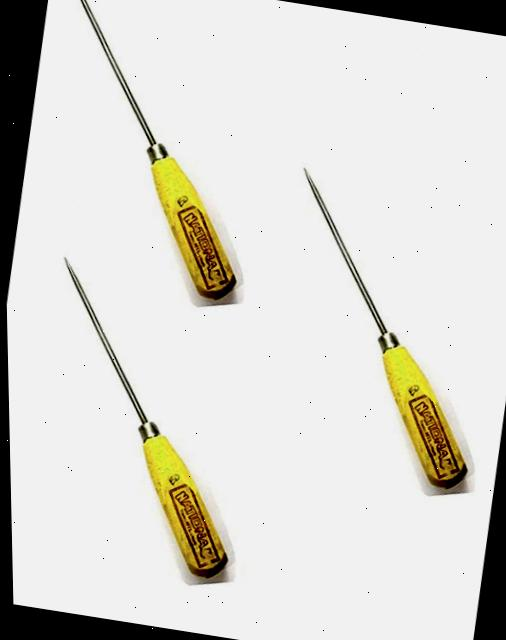ice pick: (15, 256, 270, 582), (255, 167, 506, 492), (26, 0, 279, 301)
